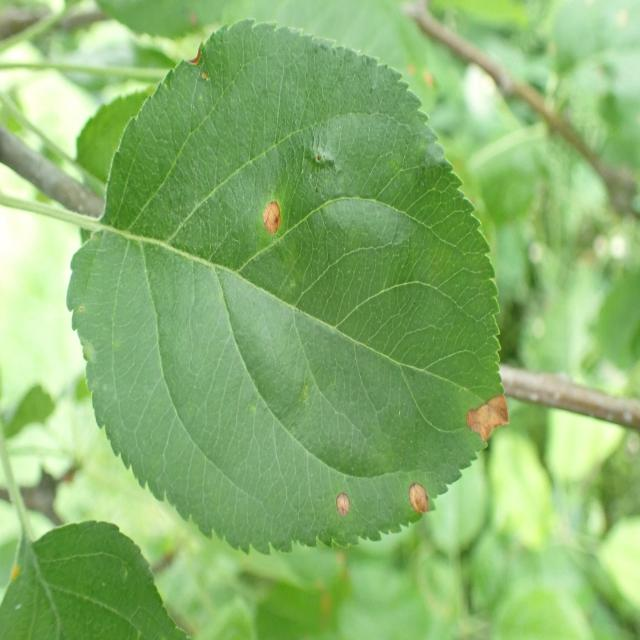Black Rot: (461, 380, 510, 460), (393, 465, 439, 546), (258, 176, 296, 260), (322, 479, 362, 527)
